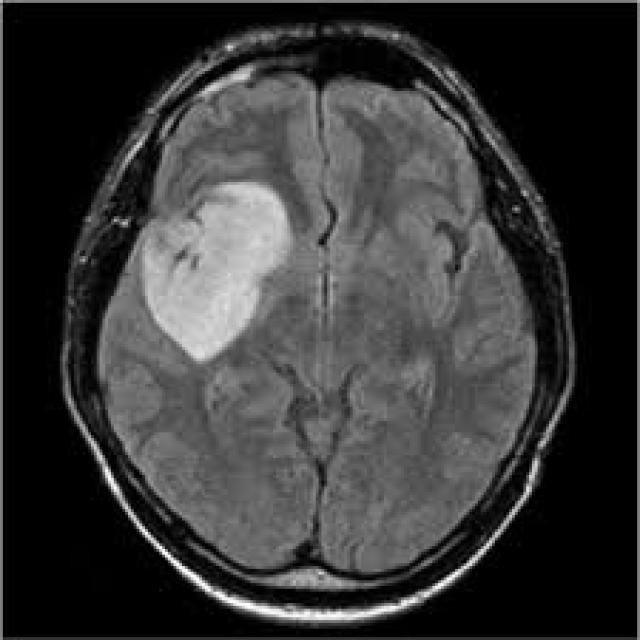meningioma: (142, 182, 296, 367)
